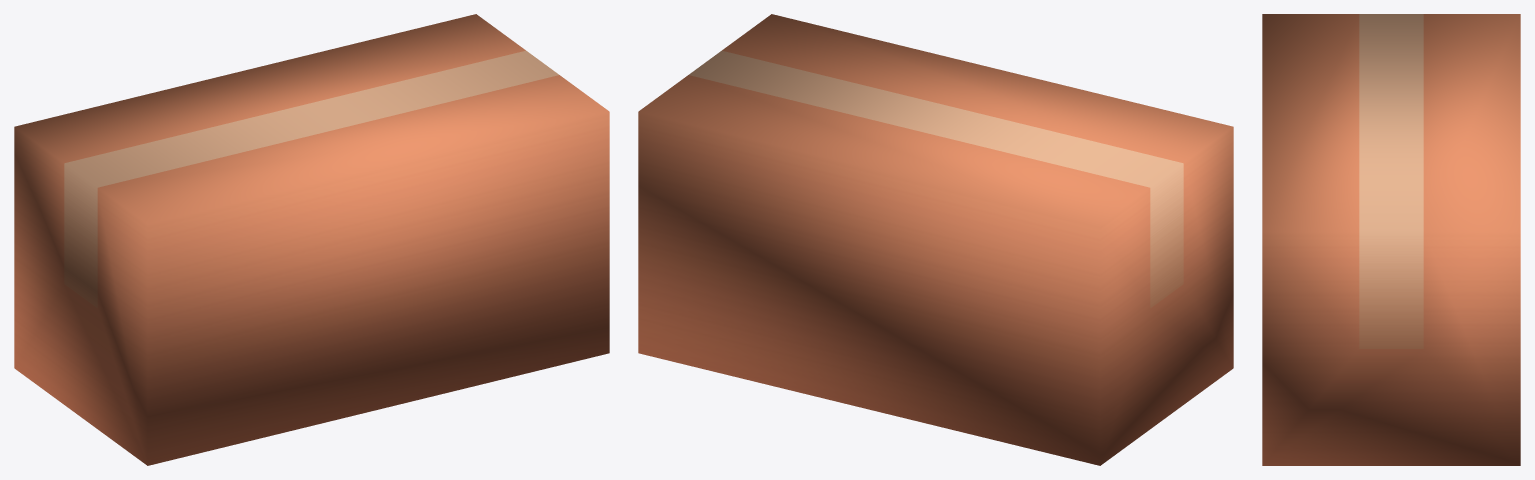
File: box_long.glb
3 renders of one model, left to right at view 1: azimuth 30°, elevation 25°; view 2: azimuth 150°, elevation 25°; view 3: azimuth 270°, elevation 25°, orthographic. The views are drawn at different scales.
Visible parts, largest first — view 1: box-long; view 2: box-long; view 3: box-long.
Boxes of the visible parts, <box> form: box-long: <box>14,14,609,465</box>; box-long: <box>638,14,1233,465</box>; box-long: <box>1262,14,1520,465</box>.
Bounding box in the file's own units: 1 × 0.5 × 0.5.
1 material, 1 textured.
